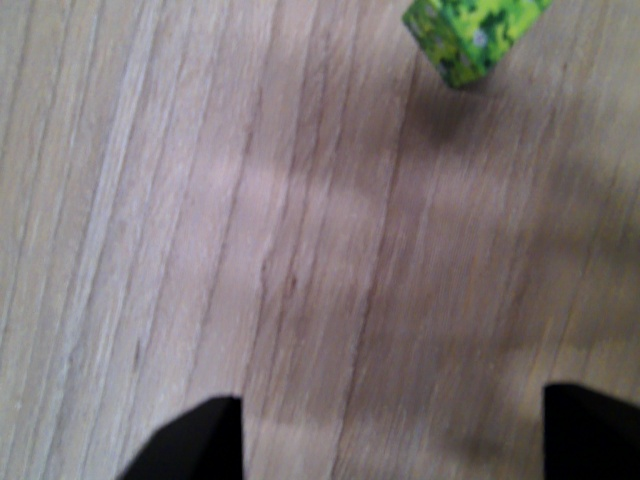grass: (397, 2, 555, 93)
